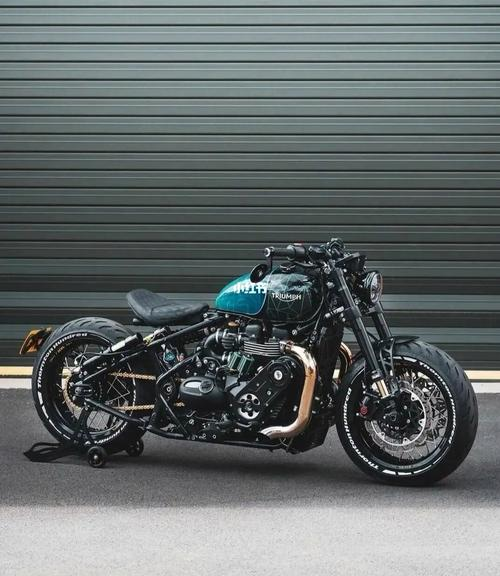摩托车: (22, 239, 483, 491)
